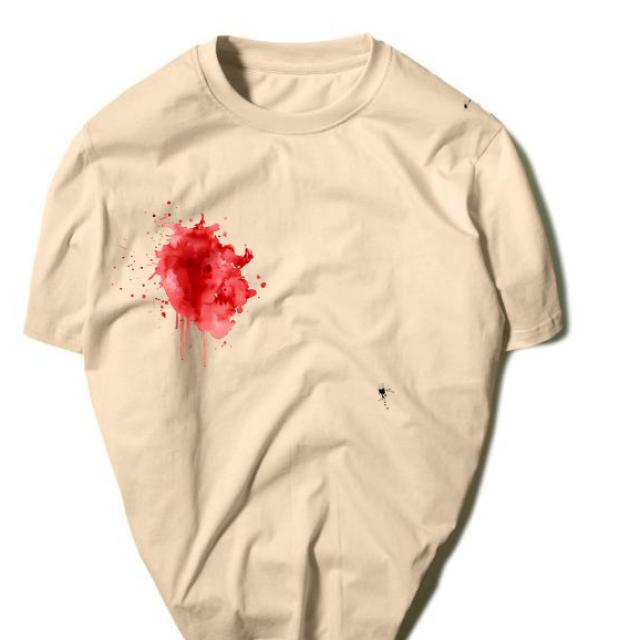stain: (146, 204, 254, 346), (368, 368, 405, 420)
